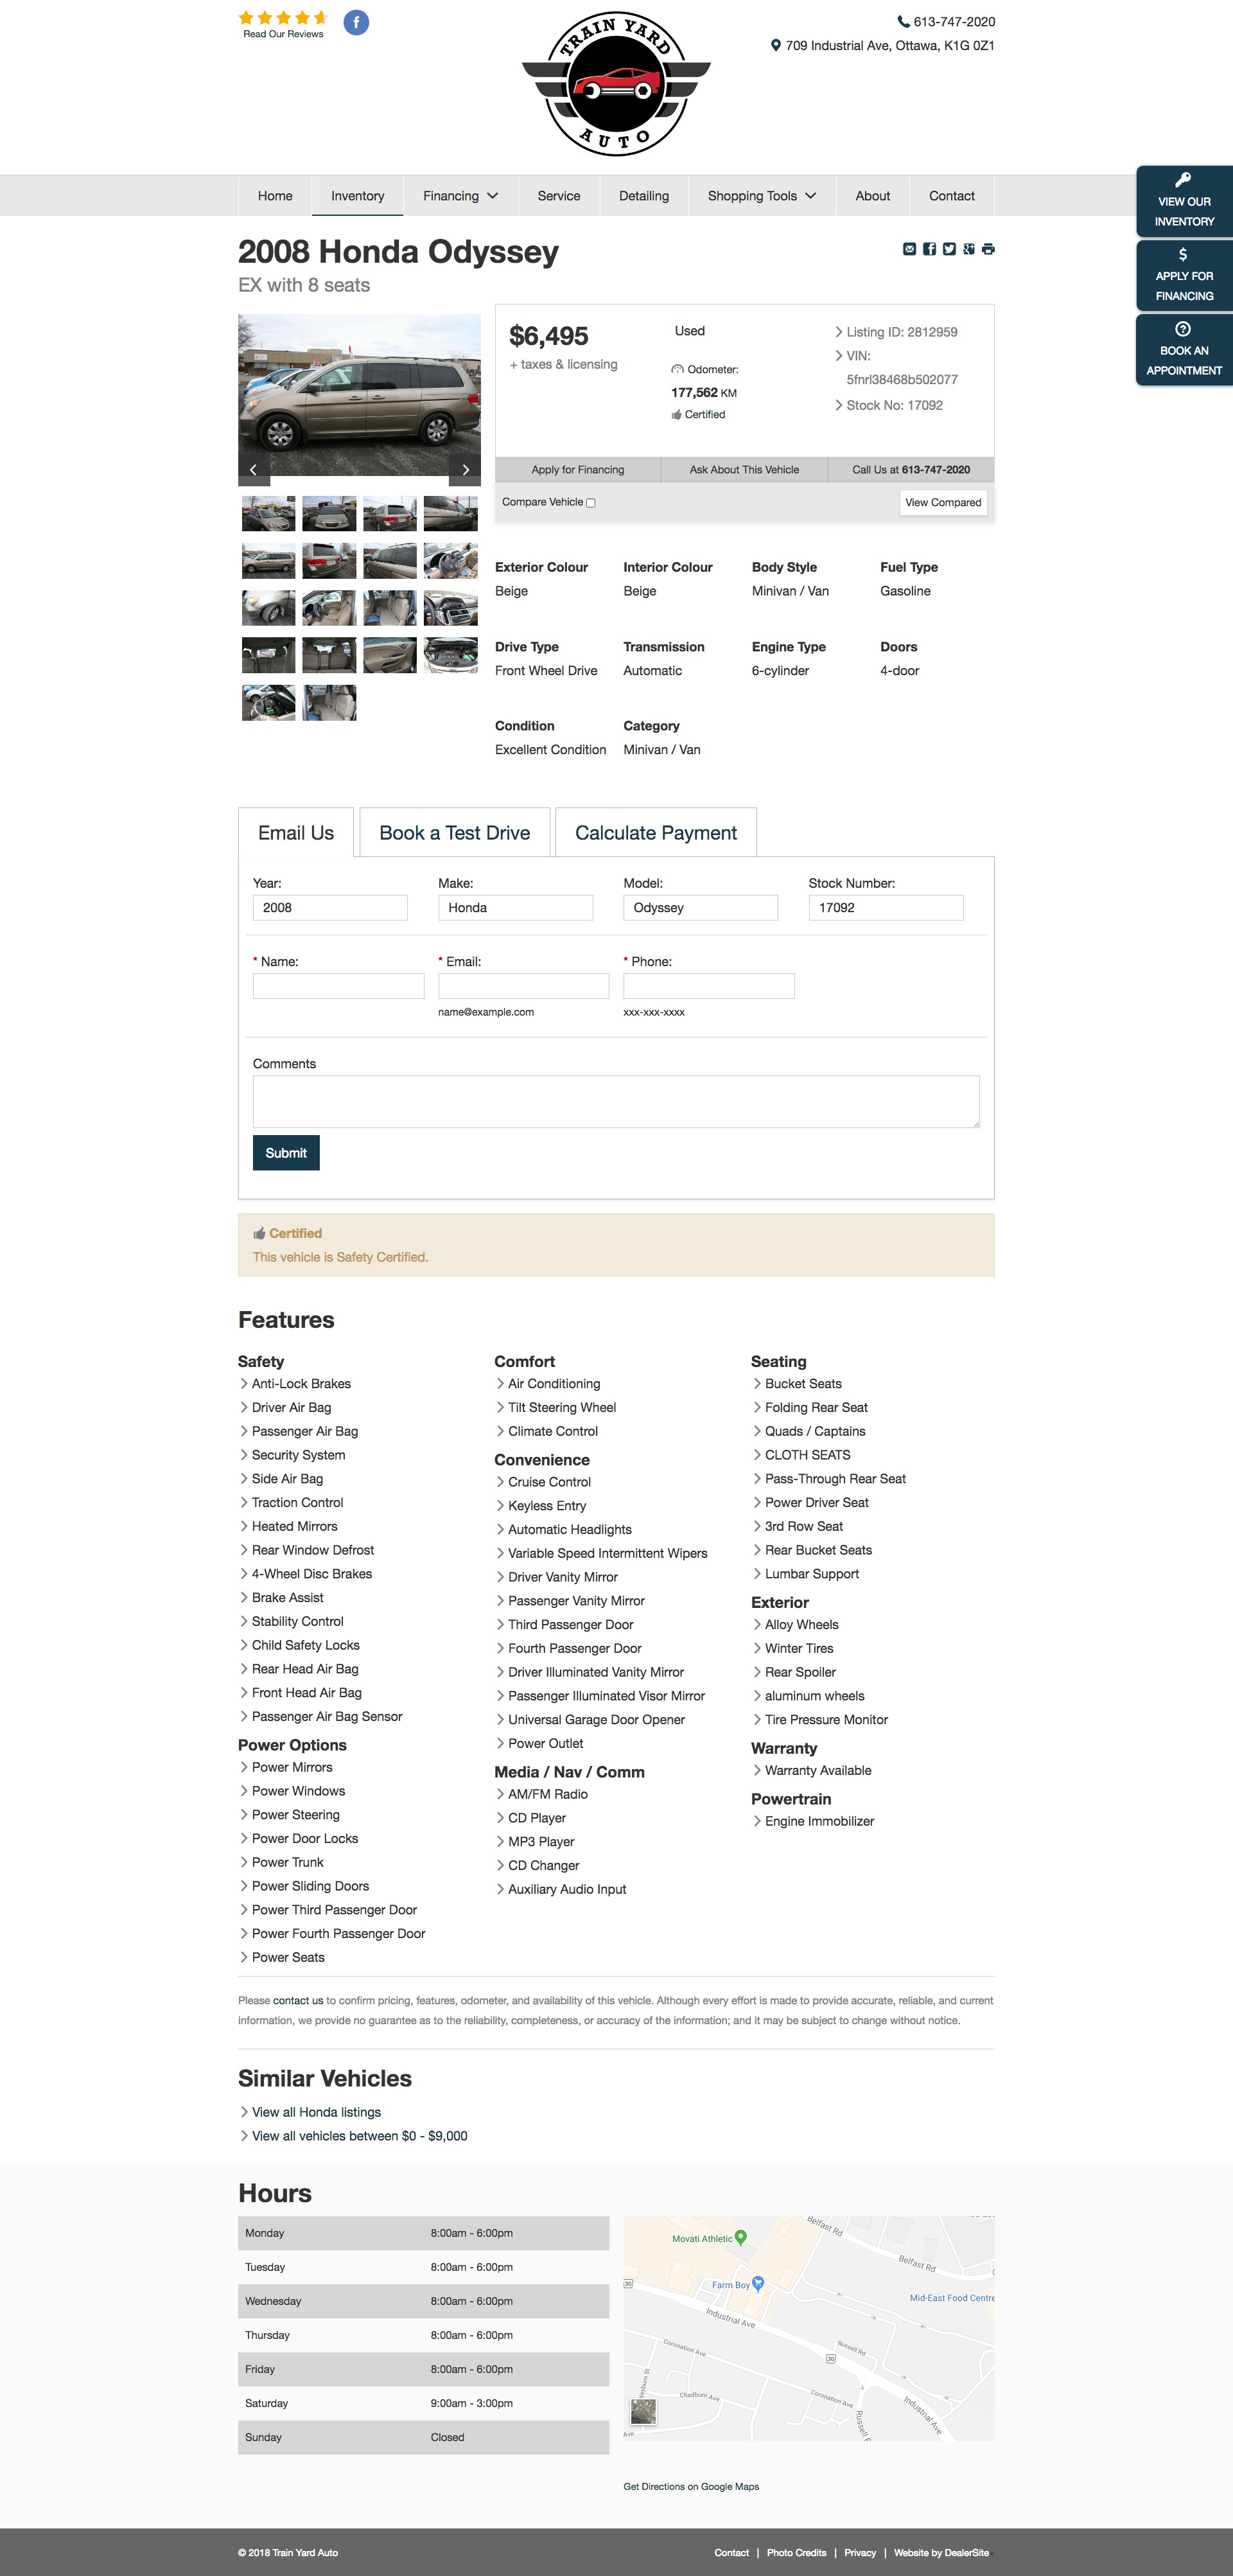car: (448, 453, 483, 488)
